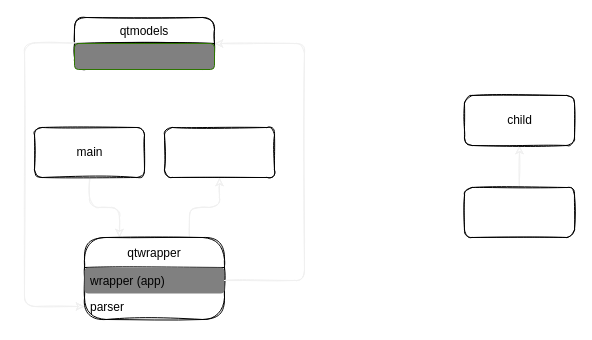
This 592x340 diagram has some shape labels left out. The shapes that lost their labels are listed below. From the top down, each one's box as (x1, y1, x2, y2) in pixels, then its label:
(74, 42, 214, 70): window (views)
(164, 126, 274, 178): models
(464, 186, 574, 238): parent
